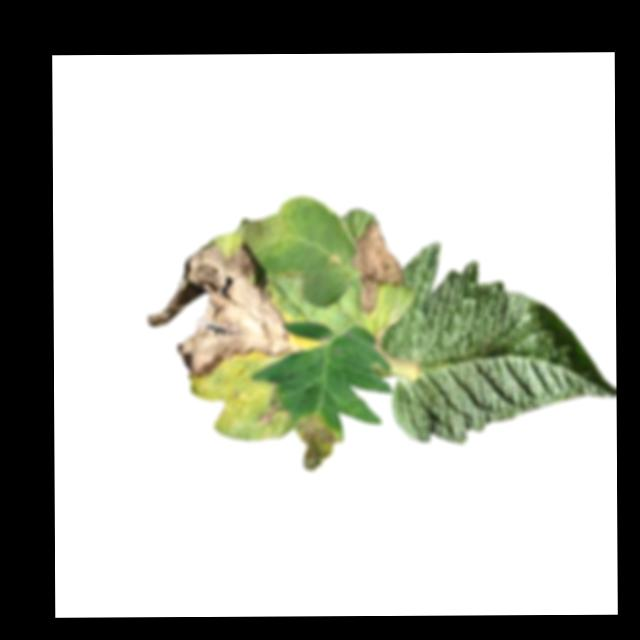Late_blight: (146, 242, 298, 379), (351, 218, 403, 317), (294, 410, 343, 470), (240, 214, 278, 253), (256, 385, 286, 426), (372, 361, 391, 378)
healthy: (382, 238, 615, 445)
